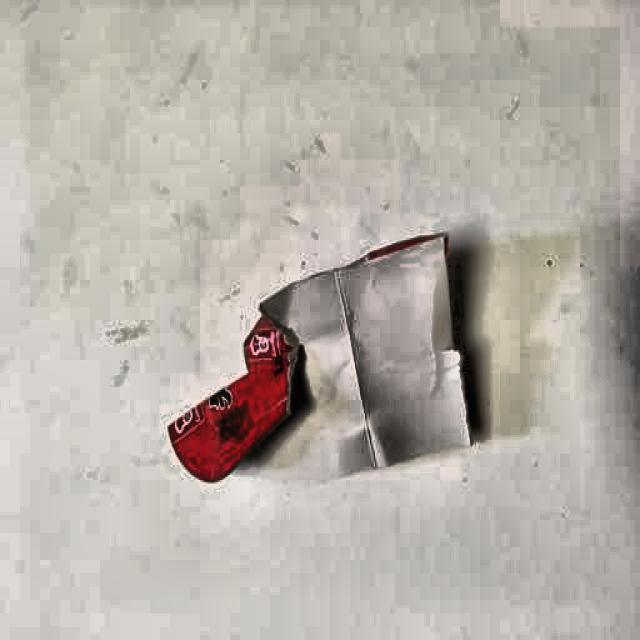paper: (168, 228, 474, 484)
